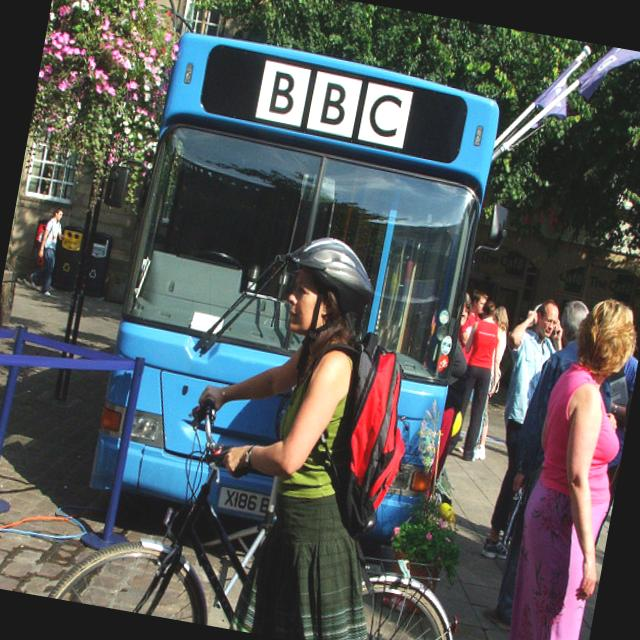Vehicle: (87, 22, 506, 550)
